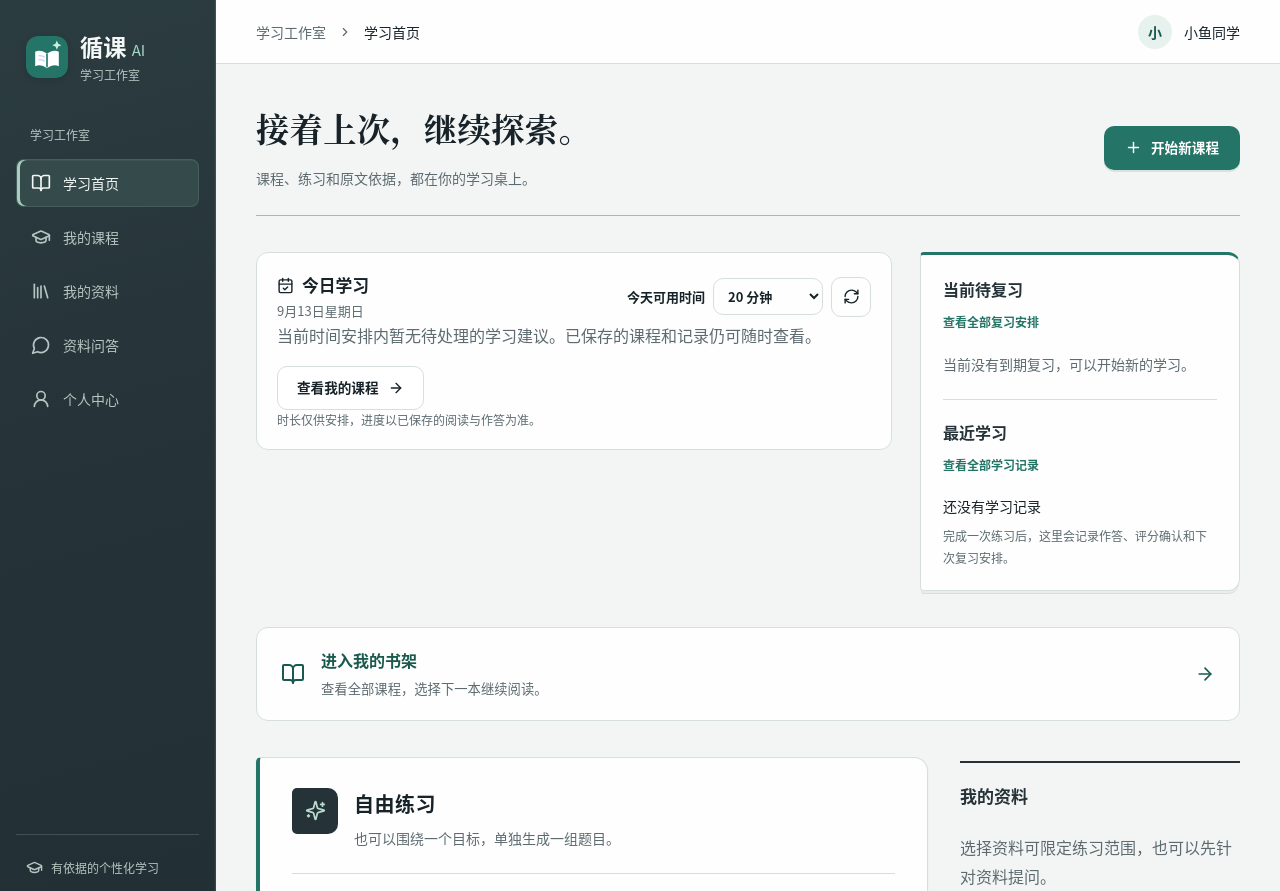
Test: one lesson learning flow › links an empty daily recommendation to the dedicated bookshelf without duplicating it
Click the link "查看我的课程" at (350, 388), box [277, 366, 424, 410]
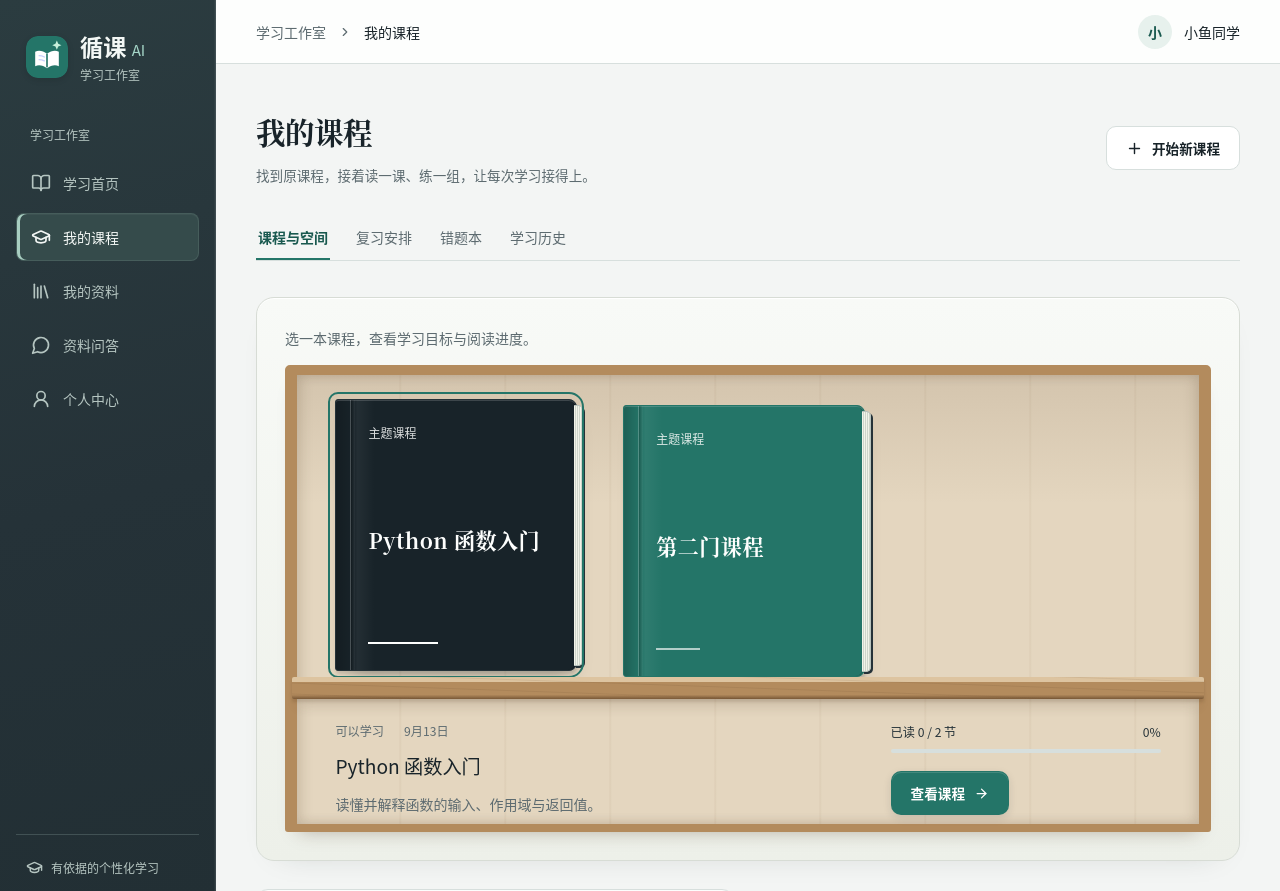
Now the element named "选择课程" is shown, box [285, 365, 1211, 832]
